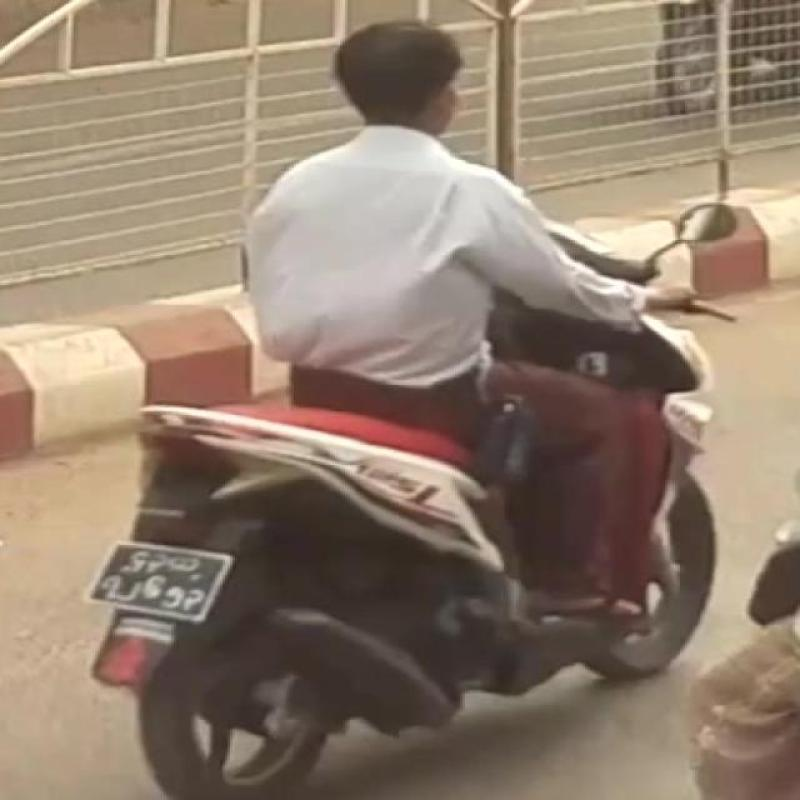nohelmet: (316, 9, 522, 143)
